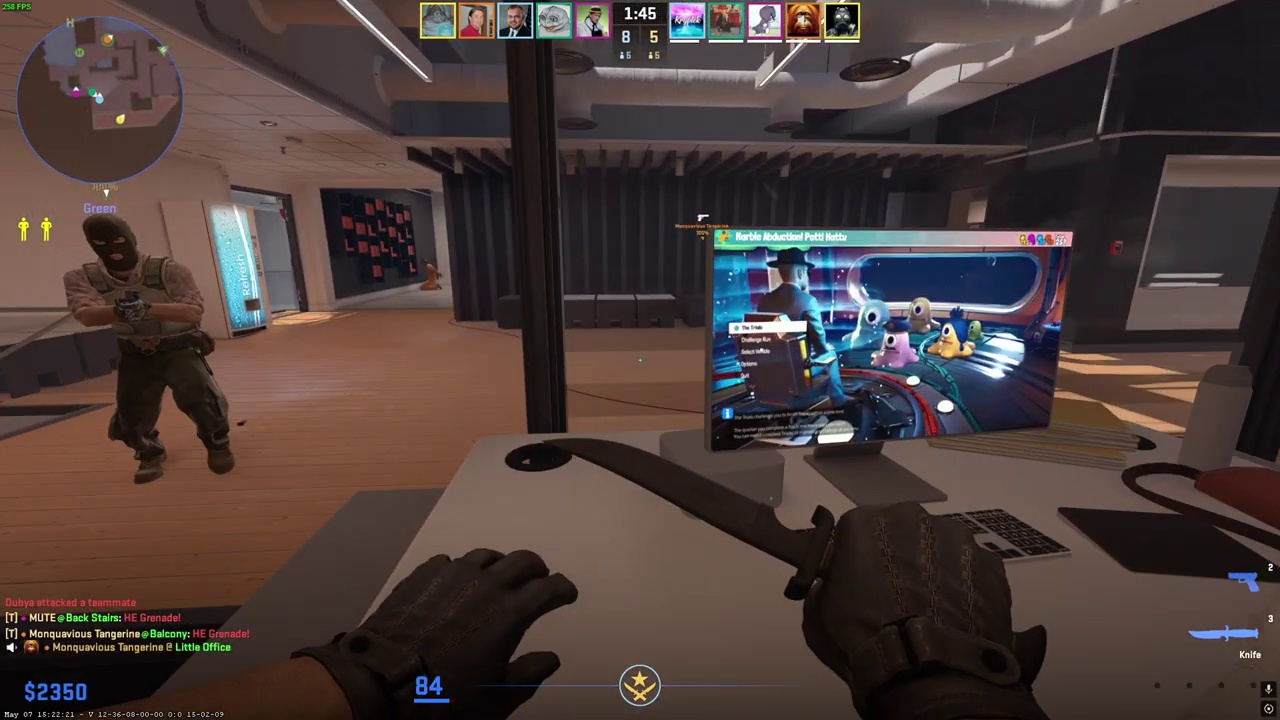Terrorist: (82, 211, 224, 484)
